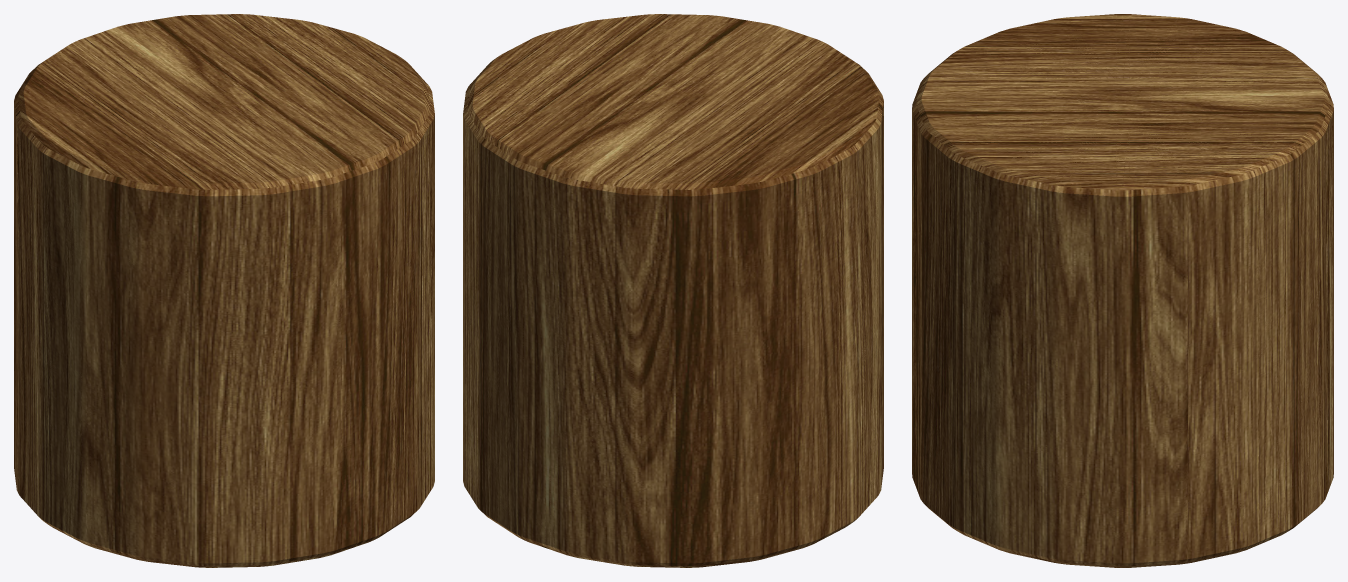
The model's file is cylinBlock.obj.
3 views of the same model, side by side, from view 1: azimuth 30°, elevation 25°; view 2: azimuth 150°, elevation 25°; view 3: azimuth 270°, elevation 25° (orthographic).
Visible parts, largest first — view 1: pCylinder1; view 2: pCylinder1; view 3: pCylinder1.
Part boxes in pixels (bbox=[...]): pCylinder1: bbox=[14, 14, 434, 567]; pCylinder1: bbox=[463, 14, 883, 567]; pCylinder1: bbox=[912, 14, 1333, 567].
Size of the model in its own units: 199 by 200 by 199.
Materials: 1 (1 with a texture image).
